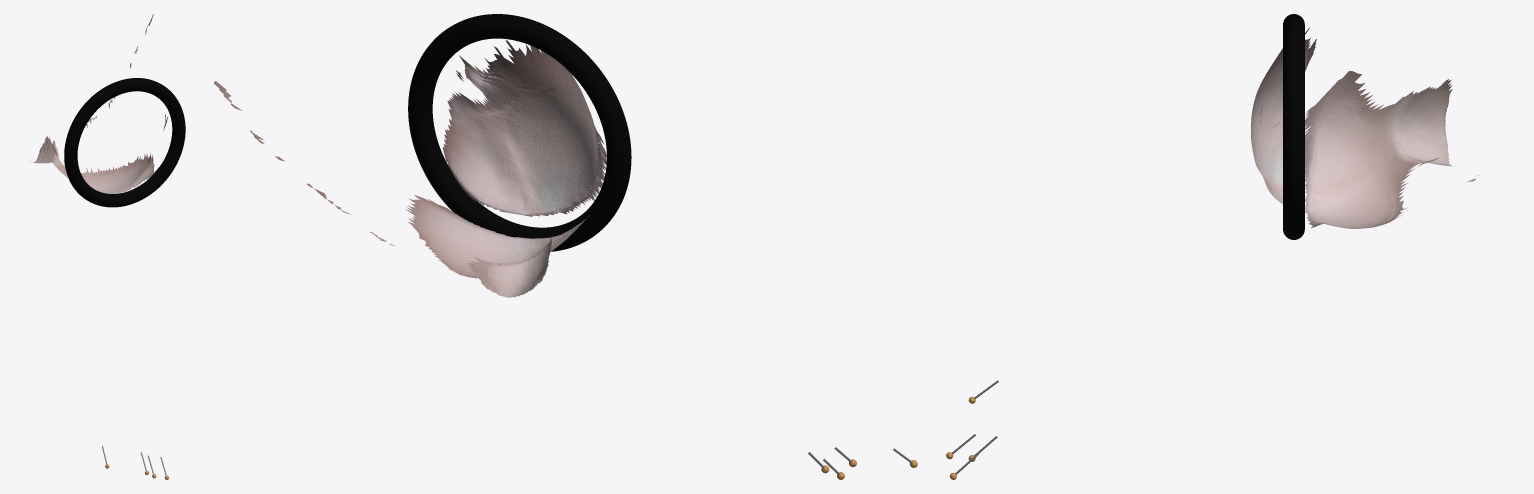
File: G01_core.glb
The picture shows the model from 3 angles, left to right: view 1: azimuth 30°, elevation 25°; view 2: azimuth 150°, elevation 25°; view 3: azimuth 270°, elevation 25°; orthographic projection. The views are drawn at different scales.
Parts seen in each view (by area): view 1: Ring_R10_CAD, G01_v004_raw00341__RAW; view 2: G01_v004_raw00341__RAW, Ring_R10_CAD; view 3: G01_v004_raw00341__RAW, Ring_R10_CAD.
Boxes of the visible parts, x1=… form: Ring_R10_CAD: x1=64, y1=78, x2=185, y2=207; G01_v004_raw00341__RAW: x1=29, y1=14, x2=167, y2=193; G01_v004_raw00341__RAW: x1=214, y1=40, x2=606, y2=297; Ring_R10_CAD: x1=408, y1=14, x2=631, y2=251; G01_v004_raw00341__RAW: x1=1251, y1=27, x2=1479, y2=228; Ring_R10_CAD: x1=1283, y1=14, x2=1304, y2=239.
Bounding box in the file's own units: 0.0223 × 0.0305 × 0.0315.
